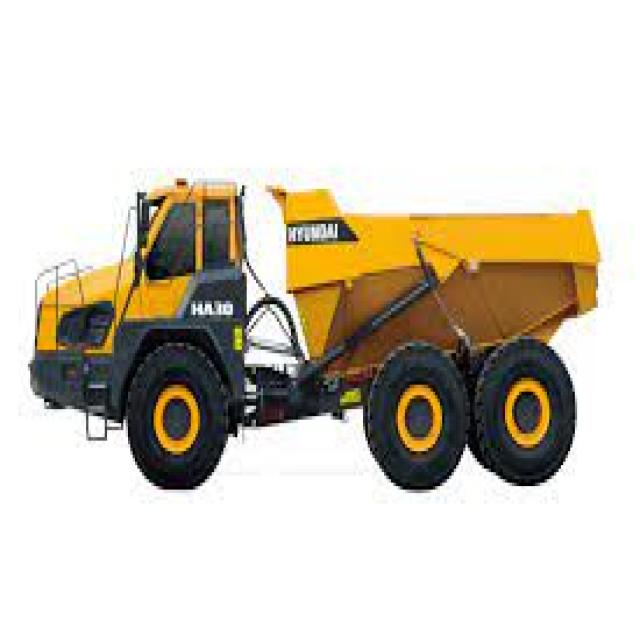dump_truck: (30, 172, 603, 501)
